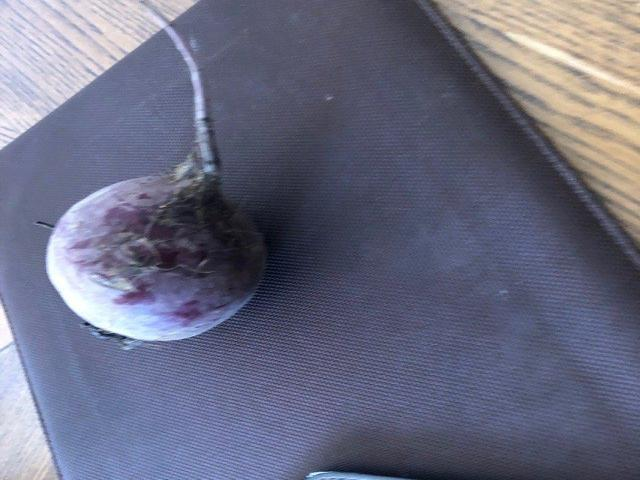beet: (47, 2, 265, 340)
